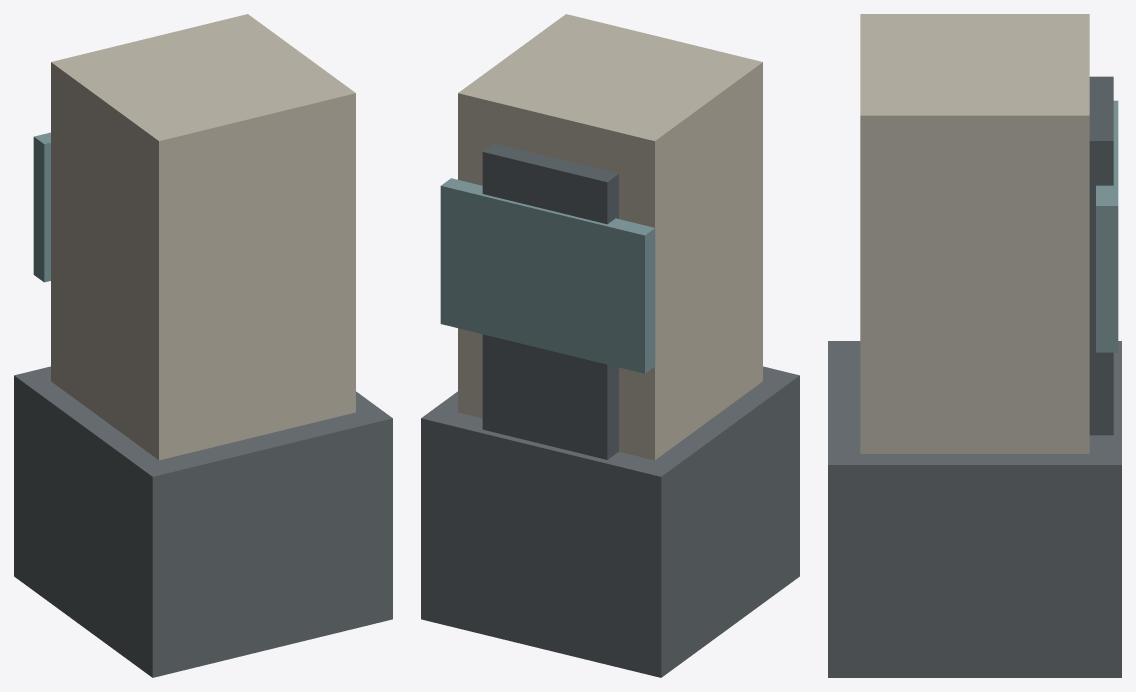
Rendered from iz3_environment_bollard_01.glb.
3 renders of one model, left to right at view 1: azimuth 30°, elevation 25°; view 2: azimuth 150°, elevation 25°; view 3: azimuth 270°, elevation 25°, orthographic. The views are drawn at different scales.
Parts seen in each view (by area): view 1: cabinet, base, display; view 2: base, cabinet, display, panel; view 3: cabinet, base, panel, display.
Boxes of the visible parts, box(x1,y1,x2,y2) form: cabinet: box(51, 14, 355, 460); base: box(14, 366, 392, 677); display: box(33, 132, 50, 282); base: box(421, 366, 799, 677); cabinet: box(458, 14, 762, 460); display: box(440, 178, 655, 373); panel: box(482, 143, 618, 459); cabinet: box(860, 14, 1089, 453); base: box(828, 341, 1121, 677); panel: box(1089, 76, 1113, 435); display: box(1096, 100, 1118, 352).
Bounding box in the file's own units: 0.4 × 0.828 × 0.4.
